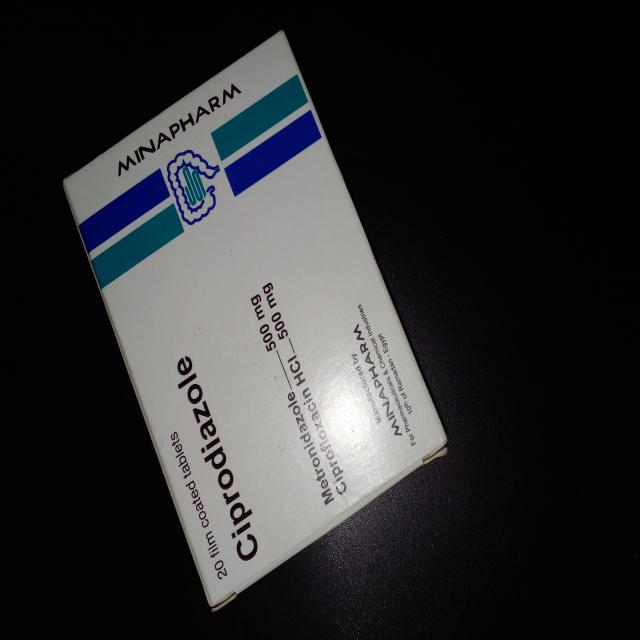Medicine: (62, 28, 449, 612)
